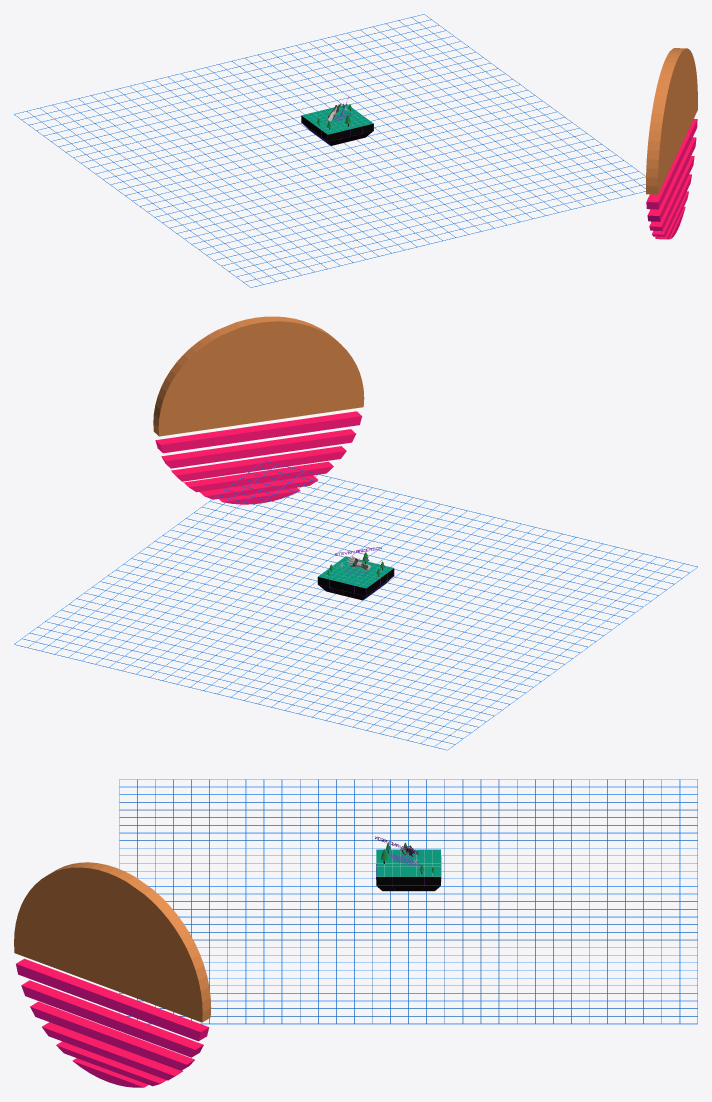
Rendered from mobile-portfolio.glb.
The picture shows the model from 3 angles, top to bottom: view 1: azimuth 30°, elevation 25°; view 2: azimuth 150°, elevation 25°; view 3: azimuth 270°, elevation 25°; orthographic projection. The views are drawn at different scales.
Parts seen in each view (by area): view 1: groundGrid, Sun, top, bottom; view 2: Sun, groundGrid, top, bottom; view 3: Sun, groundGrid, top, bottom.
Boxes of the visible parts, x1=… form: groundGrid: x1=14, y1=14, x2=645, y2=287; Sun: x1=646, y1=48, x2=697, y2=239; top: x1=302, y1=104, x2=373, y2=134; bottom: x1=301, y1=115, x2=373, y2=145; Sun: x1=153, y1=316, x2=364, y2=504; groundGrid: x1=14, y1=461, x2=697, y2=750; top: x1=318, y1=556, x2=393, y2=588; bottom: x1=318, y1=568, x2=393, y2=600; Sun: x1=14, y1=862, x2=211, y2=1087; groundGrid: x1=119, y1=779, x2=697, y2=1024; top: x1=376, y1=849, x2=440, y2=876; bottom: x1=376, y1=877, x2=440, y2=890.
Size of the model in its own units: 5564 by 1891 by 5607.
